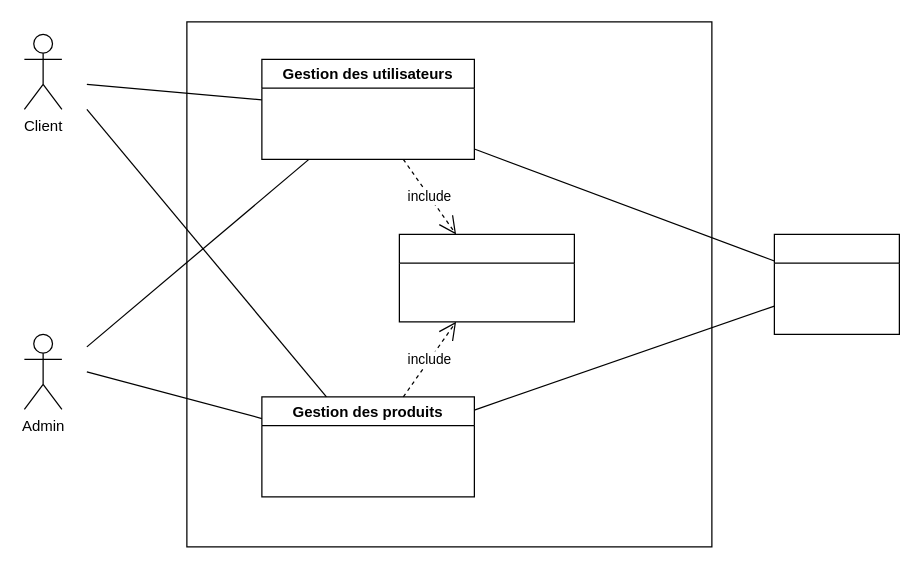
Image size: 921x569. Some labels were removed from this diagram. Each missing label, with the box of its shape:
Authentification: (398, 233, 574, 322)
BDD: (773, 233, 899, 334)
